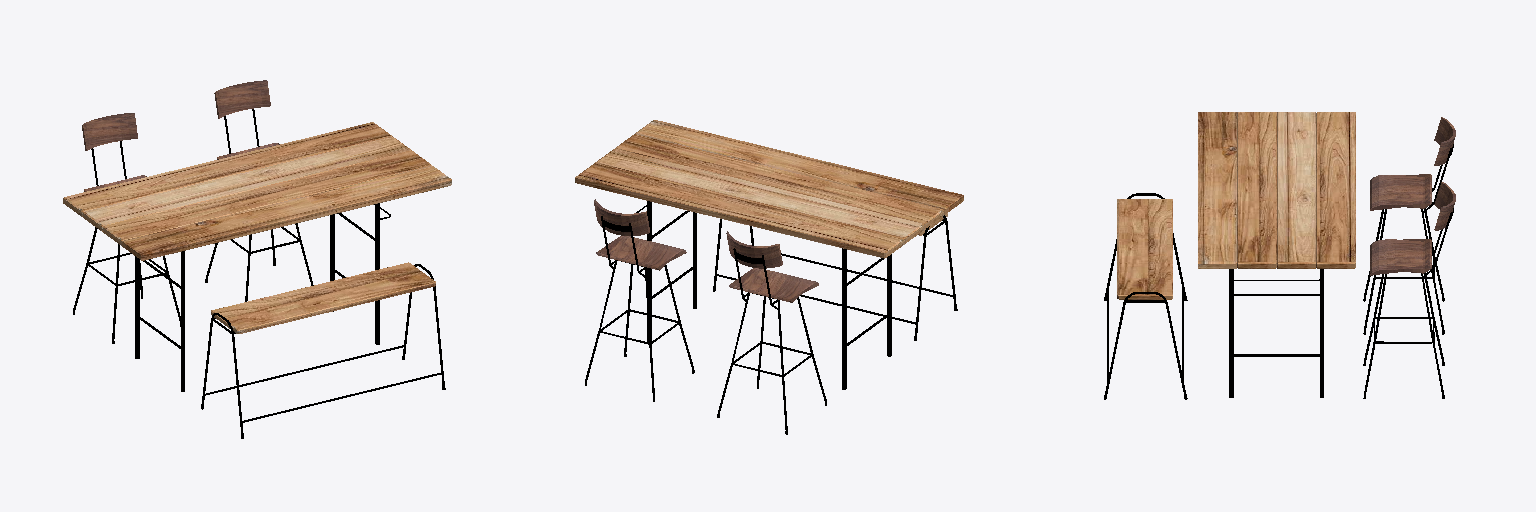
The picture shows the model from 3 angles: view 1: azimuth 30°, elevation 25°; view 2: azimuth 150°, elevation 25°; view 3: azimuth 270°, elevation 25°; orthographic projection.
Parts seen in each view (by area): view 1: Table01_Cylinder.001, Chair01_Vert.004, Chair02-01_Vert.009, Chair02-02_Vert.010; view 2: Table01_Cylinder.001, Chair02-02_Vert.010, Chair02-01_Vert.009, Chair01_Vert.004; view 3: Table01_Cylinder.001, Chair01_Vert.004, Chair02-02_Vert.010, Chair02-01_Vert.009.
Part boxes in pixels (x1,y1,x2,y2): Table01_Cylinder.001: (63, 122, 451, 391); Chair01_Vert.004: (201, 262, 445, 438); Chair02-01_Vert.009: (73, 113, 180, 343); Chair02-02_Vert.010: (205, 80, 313, 301); Table01_Cylinder.001: (575, 120, 963, 389); Chair02-02_Vert.010: (585, 199, 694, 401); Chair02-01_Vert.009: (717, 231, 826, 434); Chair01_Vert.004: (713, 213, 957, 340); Table01_Cylinder.001: (1198, 112, 1355, 397); Chair01_Vert.004: (1104, 193, 1187, 399); Chair02-02_Vert.010: (1363, 182, 1455, 398); Chair02-01_Vert.009: (1363, 117, 1455, 334).
Size of the model in its own units: 6.64 by 3.83 by 6.53.
Materials: 3 (2 with a texture image).